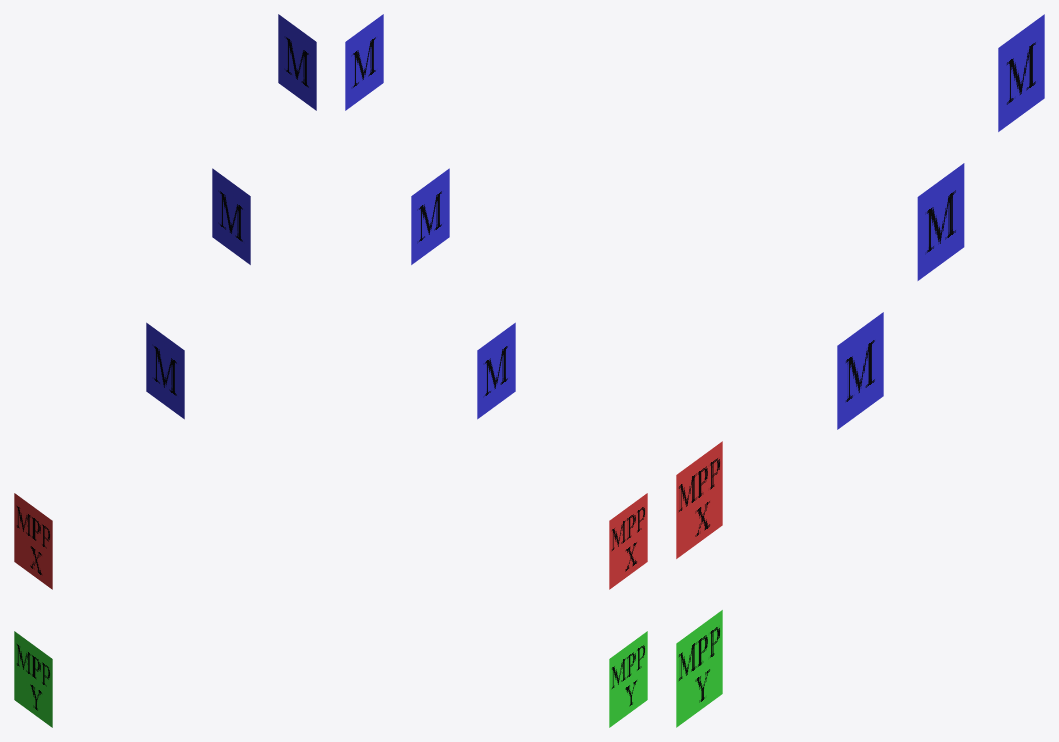
Rendered from measurement_looping.gltf.
The picture shows the model from 3 angles, left to right: view 1: azimuth 30°, elevation 25°; view 2: azimuth 150°, elevation 25°; view 3: azimuth 330°, elevation 25°; orthographic projection. The views are drawn at different scales.
Bounding box in the file's own units: 4 × 9 × 1.
1 material, 1 textured.
